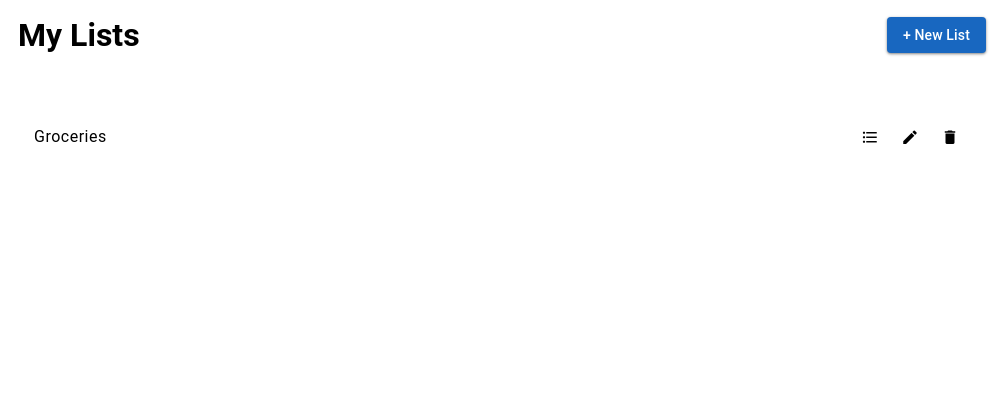
Test: Feature 2 — Todo List Management › US-2.4 — Rename and delete lists › User renames a list
The image size is (1005, 395).
Click the button named "Edit list" at (910, 137), box [890,117,930,157]
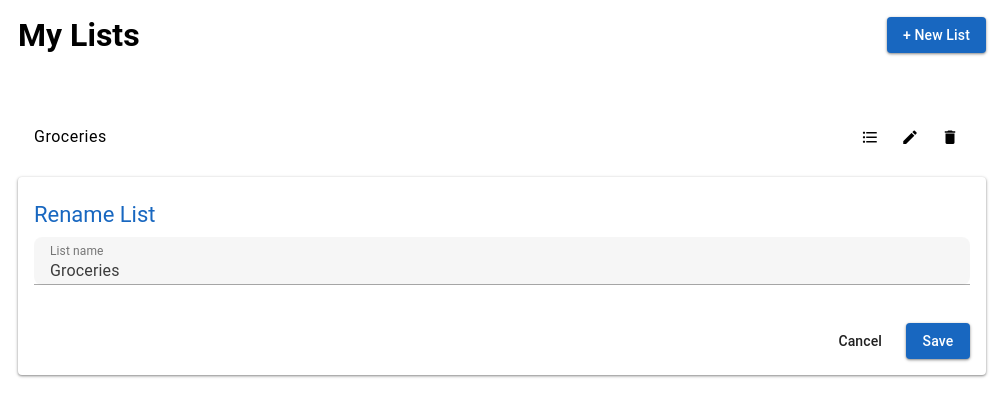
Replace the text in the field labelled "List name" with "Shopping" at (502, 261), box [34,237,970,285]
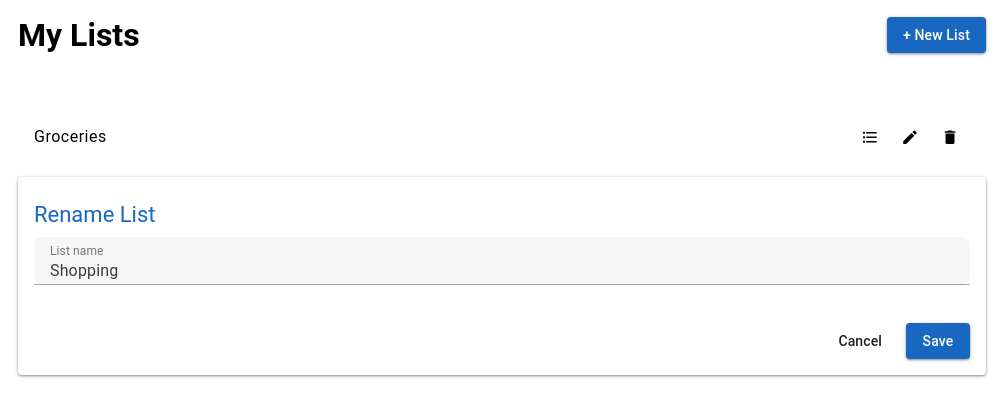
Submit the form, box [34,237,970,359]
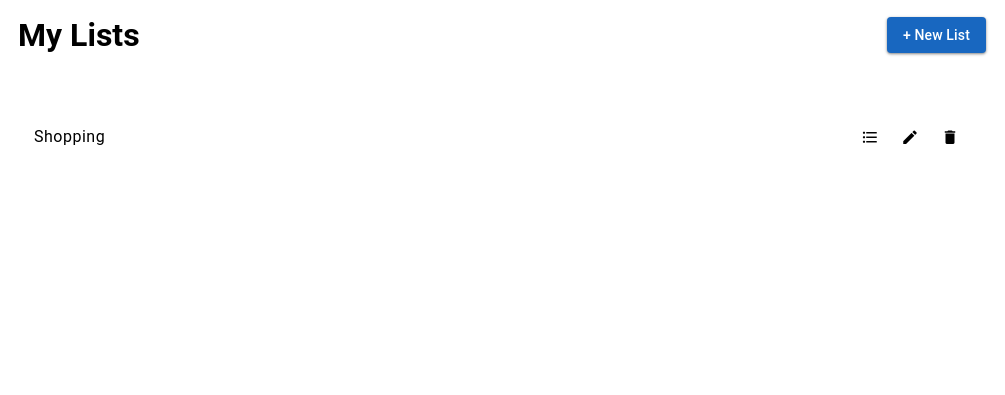
Result: the text "Shopping" is shown at [34,127,105,146]
Result: the text "Groceries" is gone
